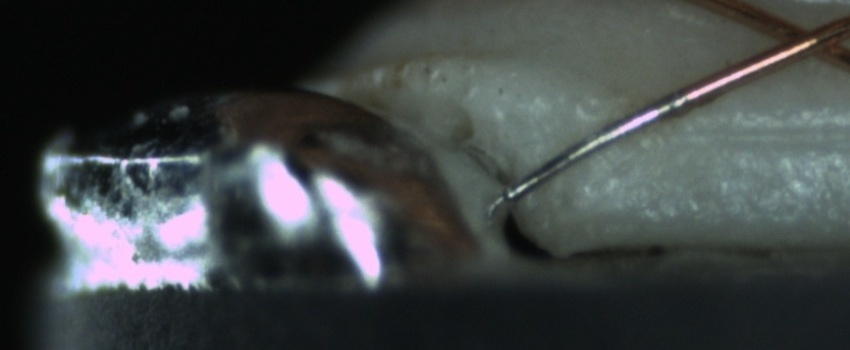CL: (751, 6, 848, 69)
DL: (674, 99, 845, 164)
TS: (505, 92, 685, 206)
TTCW: (501, 58, 701, 206)
